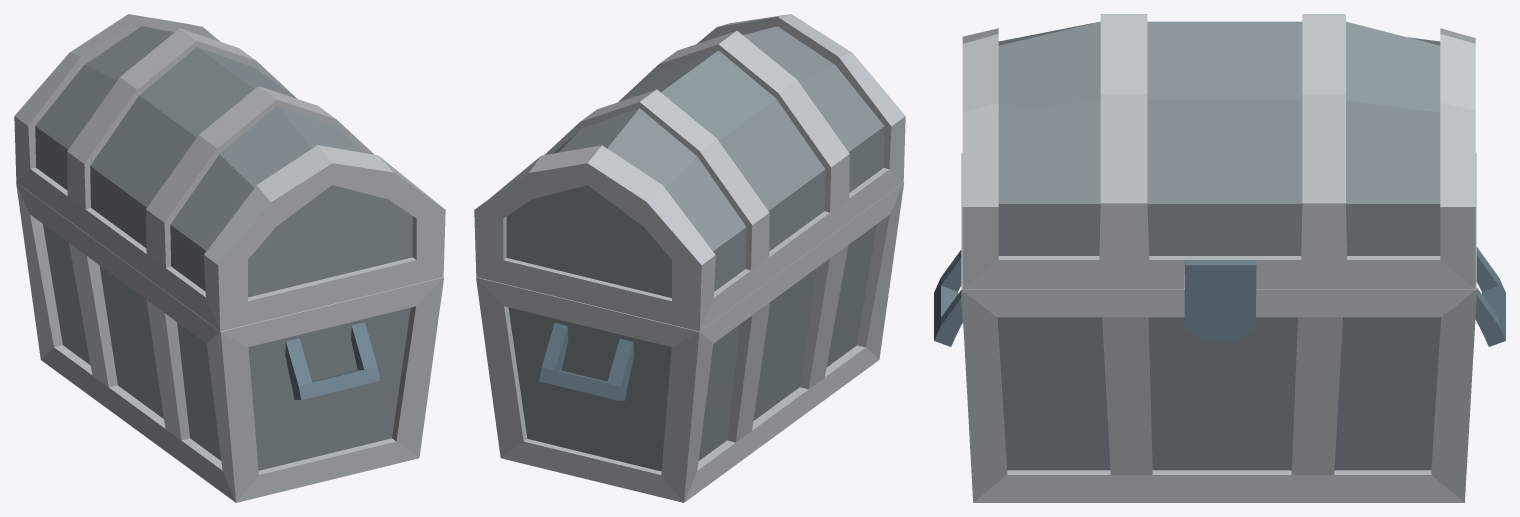
The model's file is Chest-B03.fbx.
The picture shows the model from 3 angles, left to right: view 1: azimuth 30°, elevation 25°; view 2: azimuth 150°, elevation 25°; view 3: azimuth 270°, elevation 25°; orthographic projection. The views are drawn at different scales.
Parts seen in each view (by area): view 1: Chest-B-top, Chest-B03; view 2: Chest-B-top, Chest-B03; view 3: Chest-B-top, Chest-B03.
Part boxes in pixels (bbox=[...]): Chest-B-top: bbox=[14, 14, 445, 331]; Chest-B03: bbox=[16, 182, 443, 502]; Chest-B-top: bbox=[474, 14, 905, 331]; Chest-B03: bbox=[476, 182, 904, 502]; Chest-B-top: bbox=[962, 14, 1475, 341]; Chest-B03: bbox=[934, 152, 1505, 502].
Size of the model in its own units: 66.38 by 93.28 by 112.
